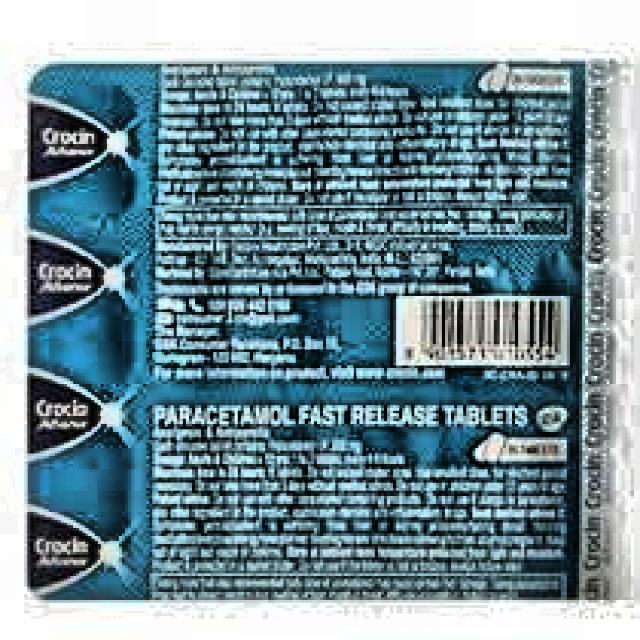Crocin: (31, 75, 150, 585)
